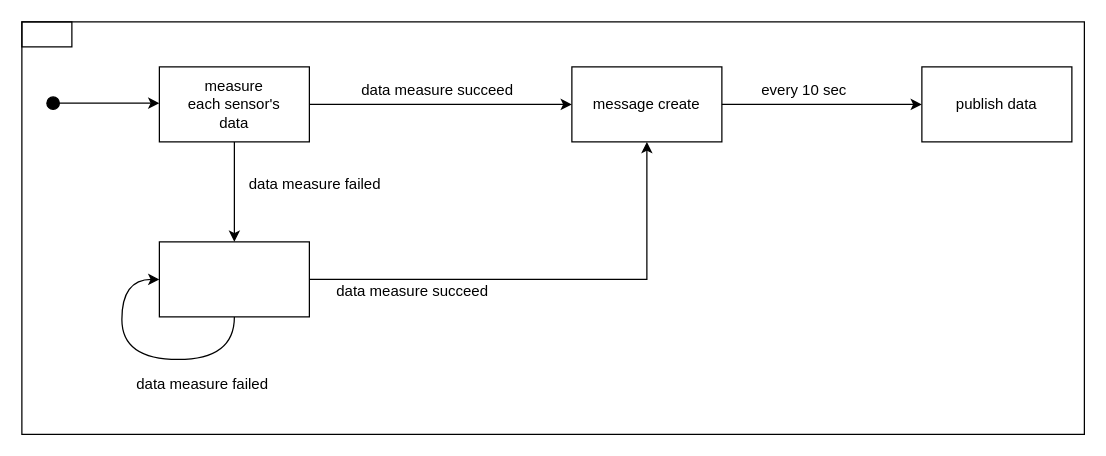
Image size: 1106x456. Some labels were removed from this diagram. Each missing label, with the centre of its shape:
delay 10 sec: point (233, 279)
sensor: point (46, 34)
